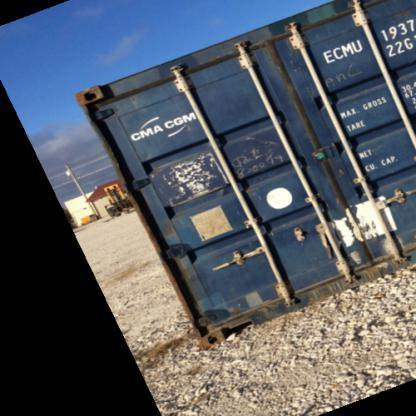Damage: (325, 197, 399, 254), (158, 154, 222, 202), (258, 39, 307, 96), (186, 290, 245, 334), (230, 136, 289, 176), (319, 62, 374, 91), (71, 83, 109, 114)
